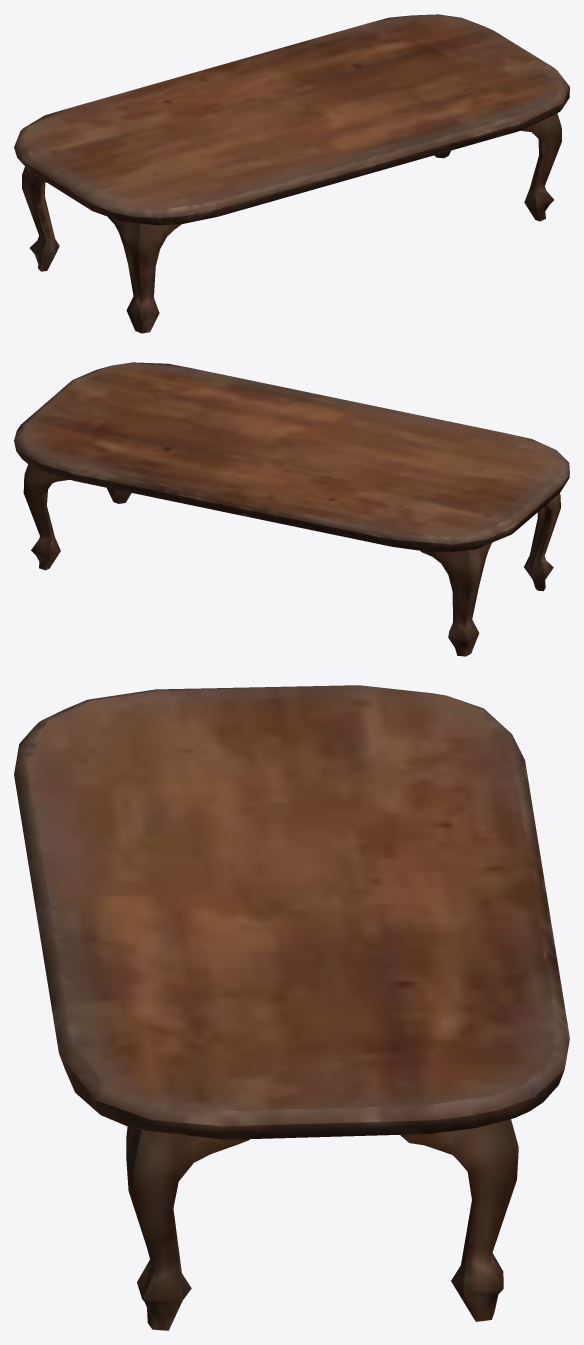
File: coffee-table.lod0.glb
3 renders of one model, top to bottom at view 1: azimuth 30°, elevation 25°; view 2: azimuth 150°, elevation 25°; view 3: azimuth 270°, elevation 25°, orthographic. The views are drawn at different scales.
Visible parts, largest first — view 1: COFFEETABLE_TEXSET_A_0; view 2: COFFEETABLE_TEXSET_A_0; view 3: COFFEETABLE_TEXSET_A_0.
Part boxes in pixels (left/top/right/bottom): COFFEETABLE_TEXSET_A_0: left=14, top=14, right=569, bottom=333; COFFEETABLE_TEXSET_A_0: left=14, top=362, right=569, bottom=656; COFFEETABLE_TEXSET_A_0: left=14, top=685, right=569, bottom=1330.
Bounding box in the file's own units: 1.4 × 0.356 × 0.7486.
Materials: 1 (1 with a texture image).
